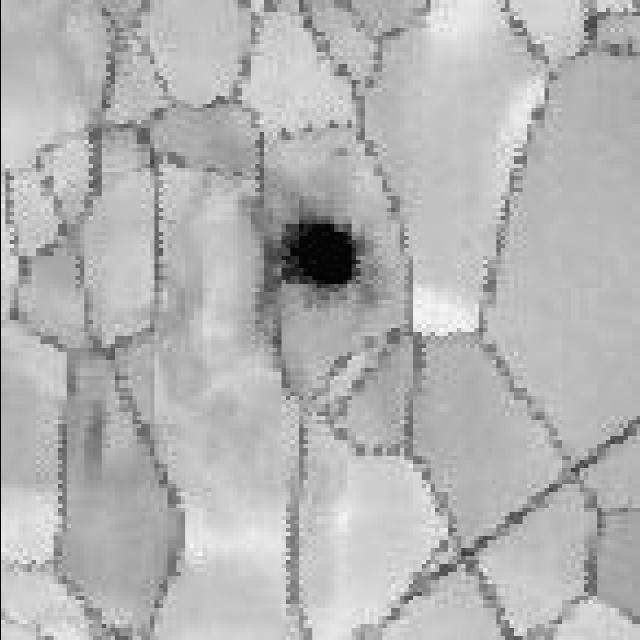good_void: (270, 202, 372, 309)
